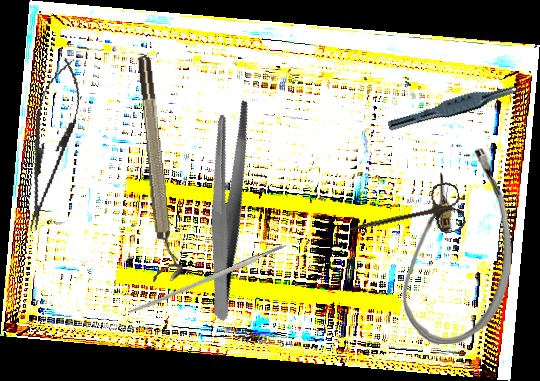Cannula: (400, 147, 514, 345)
Dressing Forceps: (157, 93, 296, 323)
Fixation Ring: (133, 54, 184, 283)
Iris Scissors: (344, 179, 468, 257)
Needle Holder: (11, 54, 90, 236)
Scalpel Handle: (126, 242, 289, 317)
Tissue Forceps: (386, 74, 530, 139)
